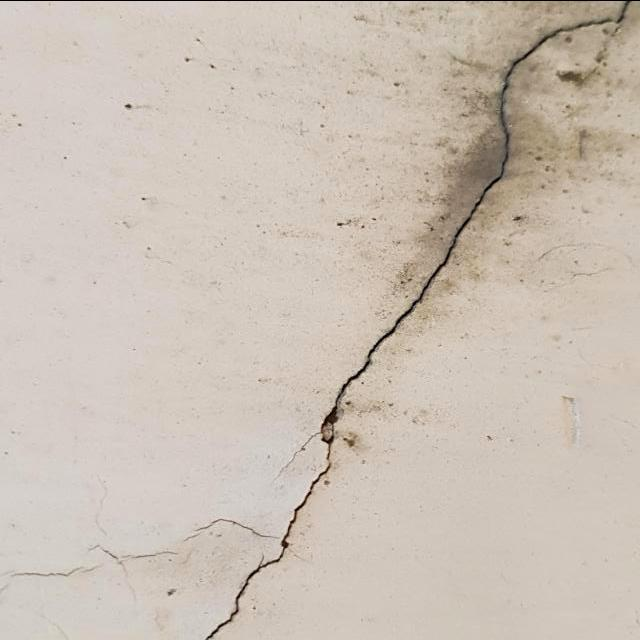SurfaceCrack: (144, 0, 639, 639)
